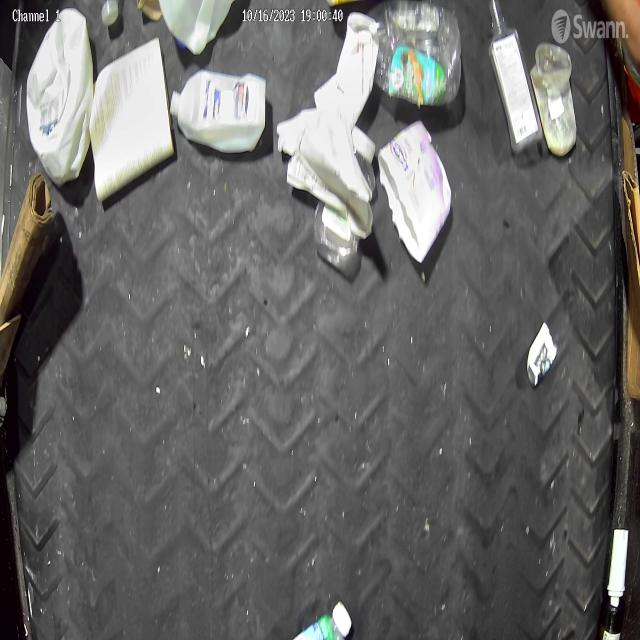can: (527, 320, 558, 387)
milk_jug: (27, 8, 93, 188), (170, 71, 266, 155), (158, 0, 234, 55)
plastic_bottle: (366, 0, 462, 105)
